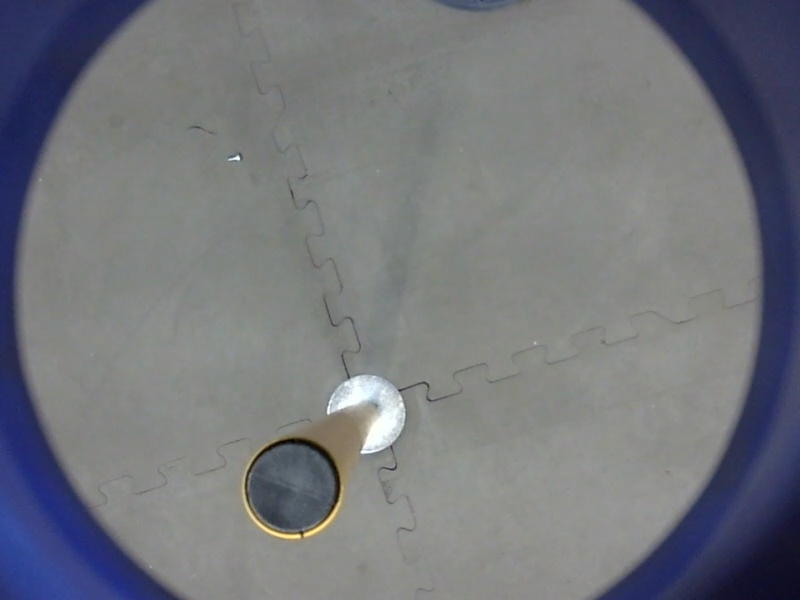tip: (236, 430, 350, 545)
